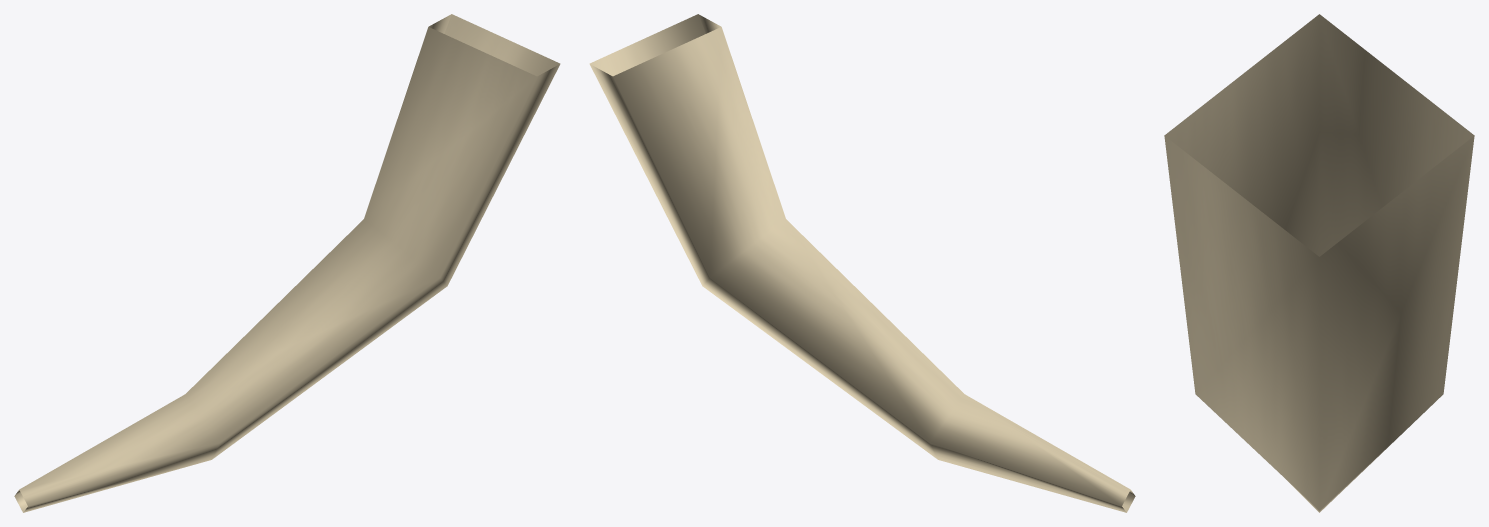
Rendered from DrinkingHorn_1_LOD2.gltf.
The picture shows the model from 3 angles, left to right: view 1: azimuth 30°, elevation 25°; view 2: azimuth 150°, elevation 25°; view 3: azimuth 270°, elevation 25°; orthographic projection. The views are drawn at different scales.
Parts seen in each view (by area): view 1: DrinkingHorn_1_LOD2; view 2: DrinkingHorn_1_LOD2; view 3: DrinkingHorn_1_LOD2.
Part boxes in pixels (box(x1,y1,x2,y2)): DrinkingHorn_1_LOD2: box(14, 14, 560, 512); DrinkingHorn_1_LOD2: box(589, 14, 1135, 512); DrinkingHorn_1_LOD2: box(1164, 14, 1474, 512).
Size of the model in its own units: 0.366 by 0.2503 by 0.1.
Materials: 1 (1 with a texture image).
